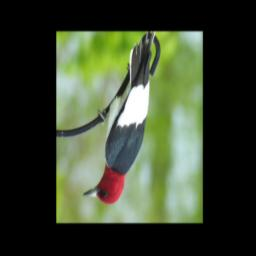Woodpecker: (82, 32, 157, 205)
